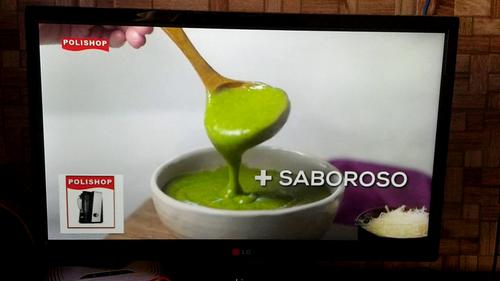Polishop #1: (57, 172, 124, 233)
